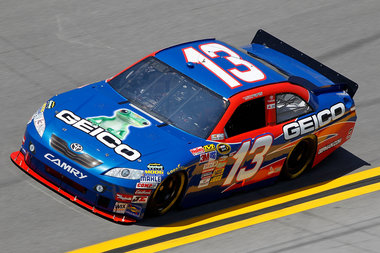Geico: (54, 103, 150, 169), (278, 104, 349, 139)
